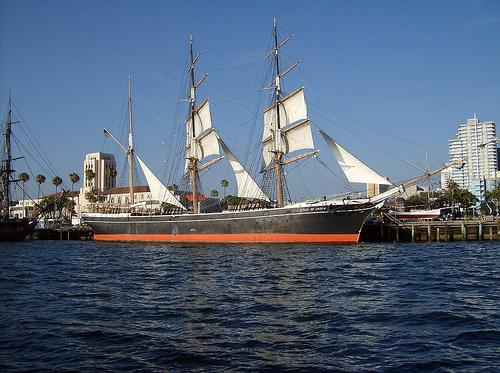Ship: (81, 22, 470, 246)
